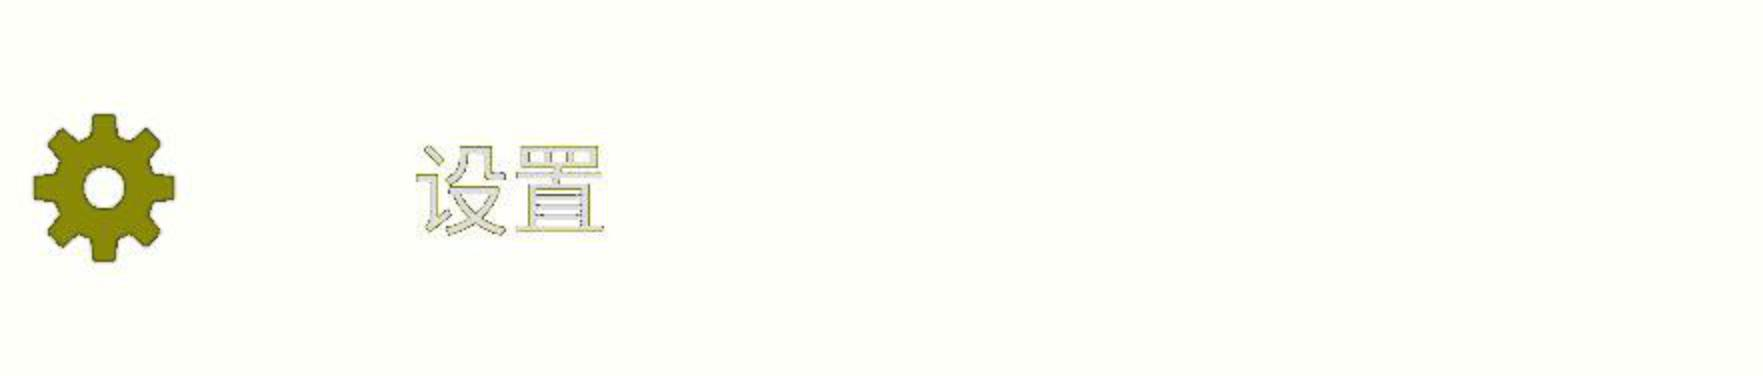CheckedTextView: (1, 1, 1762, 375)
